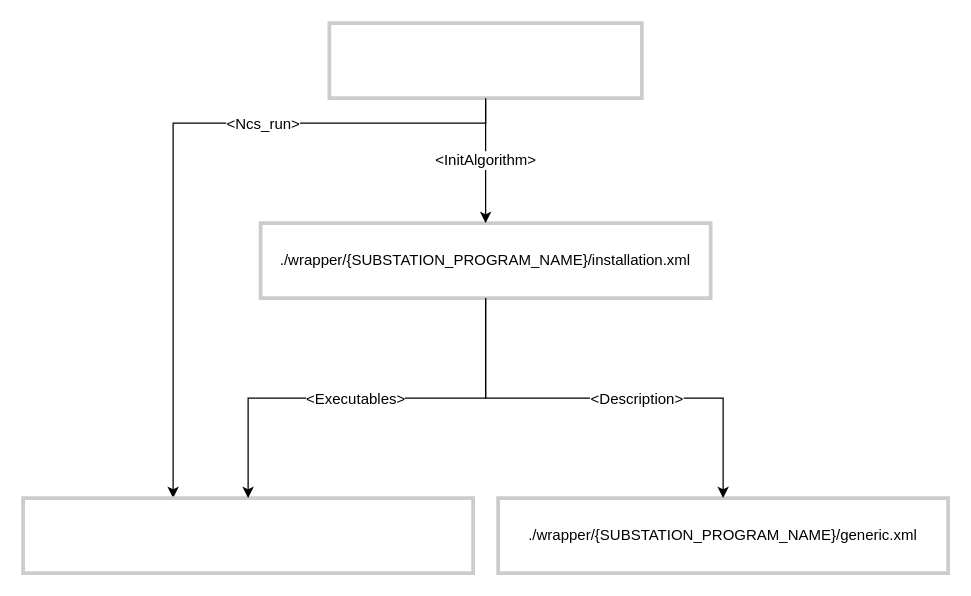
The diagram is 971 pixels wide and 596 high, and some of its shapes have lost their labels. The centre of each missing label's shape, as x and y in pixels:
"./../../path/to/executable/script.py.sh.whatever" goes at (x=247, y=535).
"./station/{STATION_NAME}/station.cfgfile" goes at (x=485, y=60).
